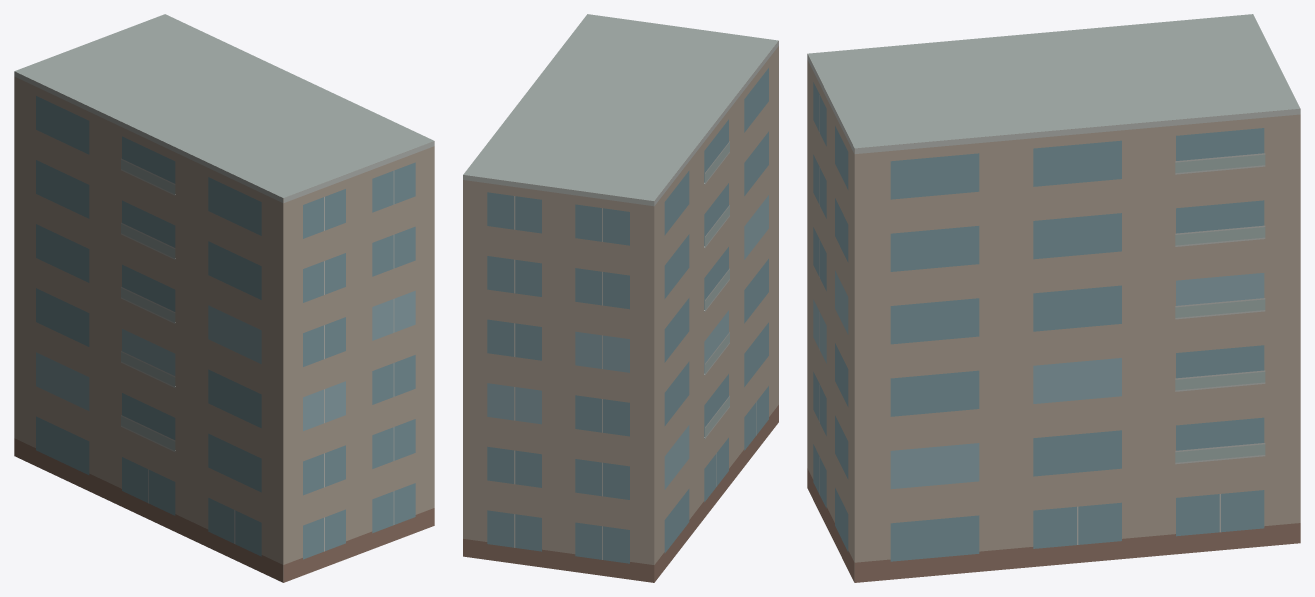
The model's file is survey-upis-32704996.glb.
3 renders of one model, left to right at view 1: azimuth 30°, elevation 25°; view 2: azimuth 150°, elevation 25°; view 3: azimuth 270°, elevation 25°, orthographic. The views are drawn at different scales.
Parts seen in each view (by area): view 1: survey-upis-32704996.tmp; view 2: survey-upis-32704996.tmp; view 3: survey-upis-32704996.tmp.
Part boxes in pixels (x1,y1,x2,y2): survey-upis-32704996.tmp: (14, 14, 434, 582); survey-upis-32704996.tmp: (463, 14, 778, 582); survey-upis-32704996.tmp: (807, 14, 1300, 582).
Bounding box in the file's own units: 12.15 × 18.3 × 18.83.
